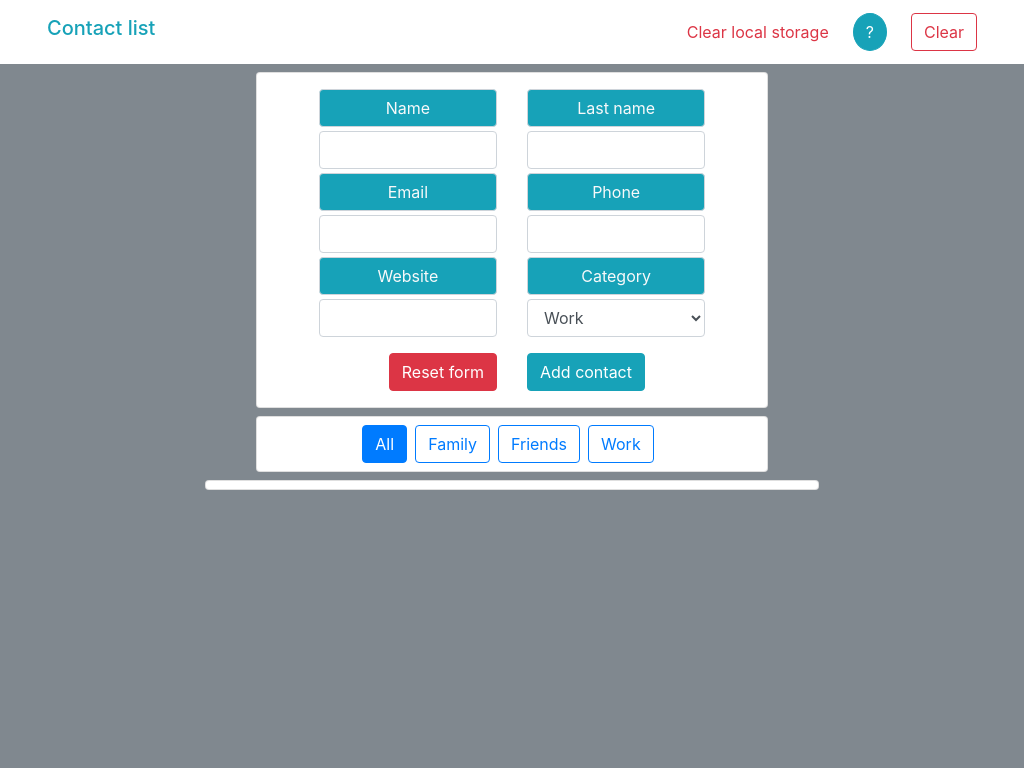
Testing that contacts is add/delete and contact card is rendered › Checking that contact card with website data is added to contacts grid container
Setting values and checking that it is assigned.
Type "Name" into the field with id "name" at (408, 150), box [319,131,497,169]
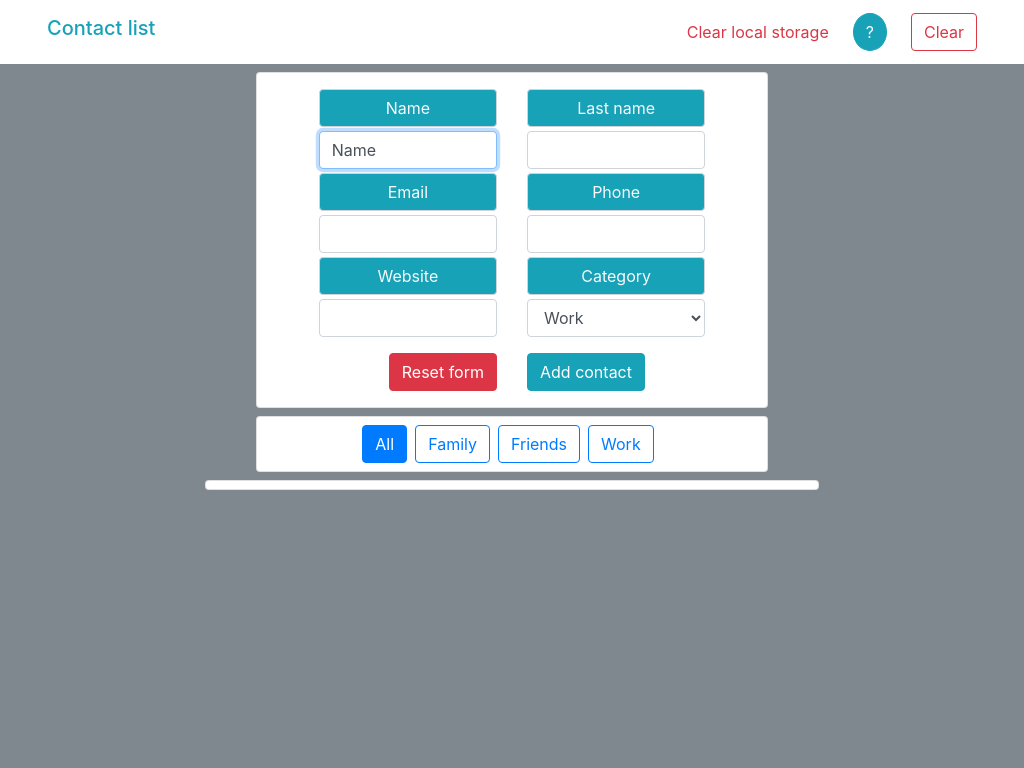
Type "lastName" into the field with id "lastName" at (616, 150), box [527,131,705,169]
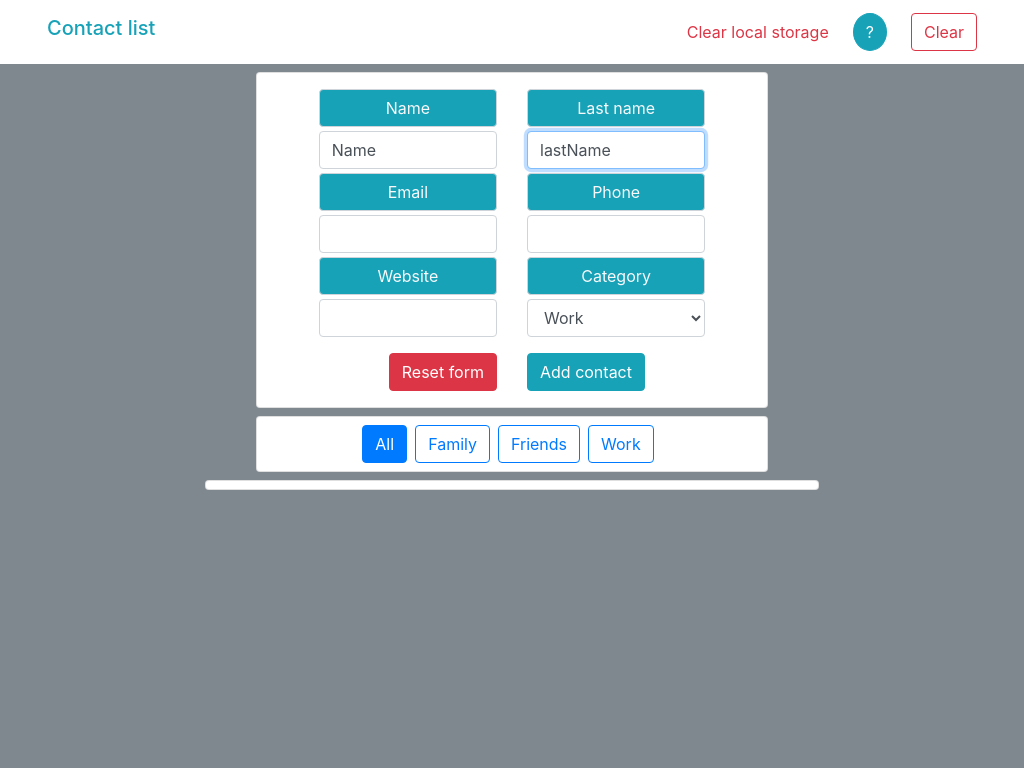
Type "27272727" into the field labelled "Phone" at (616, 234), box [527,215,705,253]
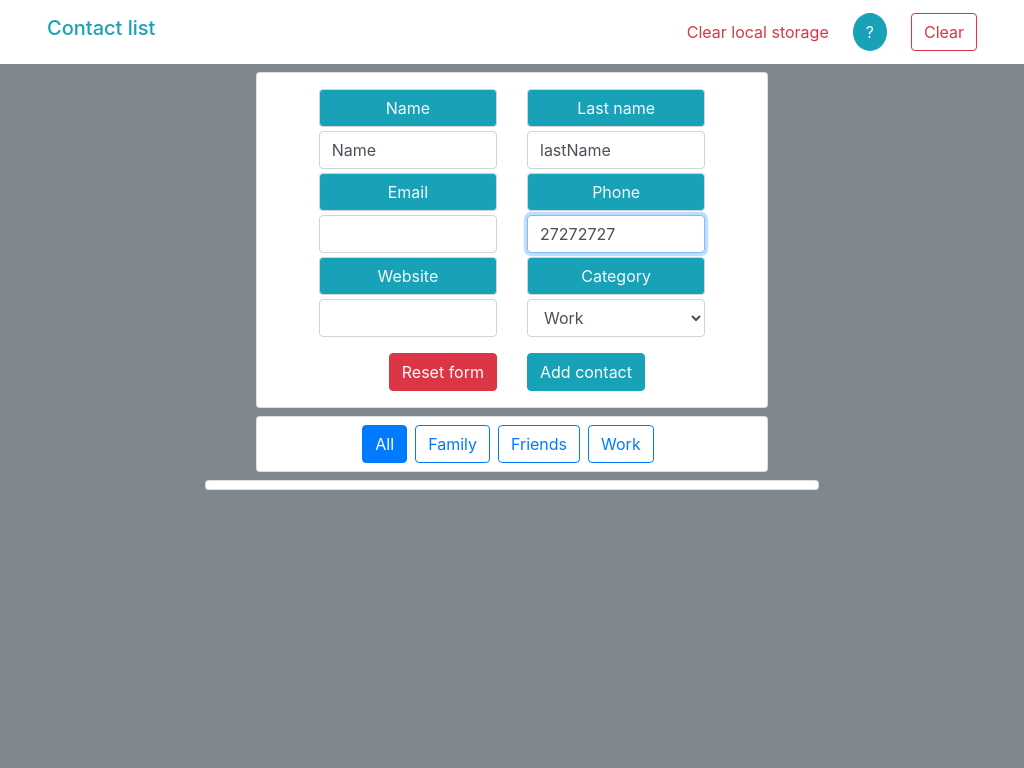
Type "test@email.com" into the field with id "email" at (408, 234), box [319,215,497,253]
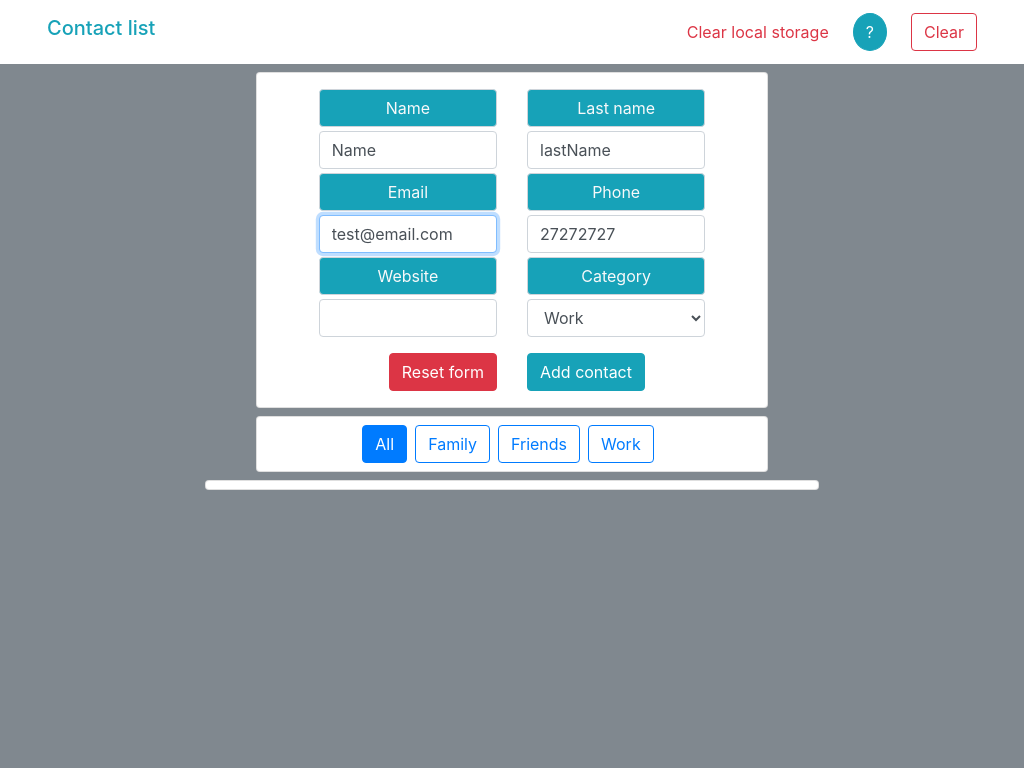
Type "www.test.com" into the field with id "website" at (408, 318), box [319,299,497,337]
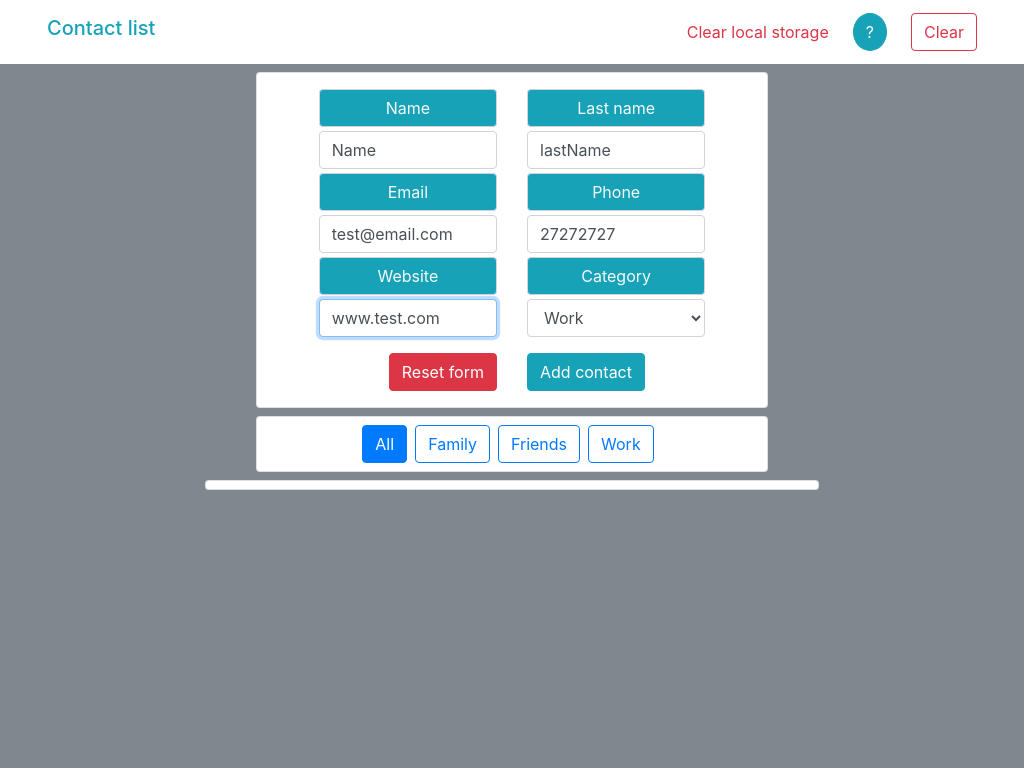
Submit form
Click the button with class "submit-btn" at (586, 372), box [527,353,645,391]
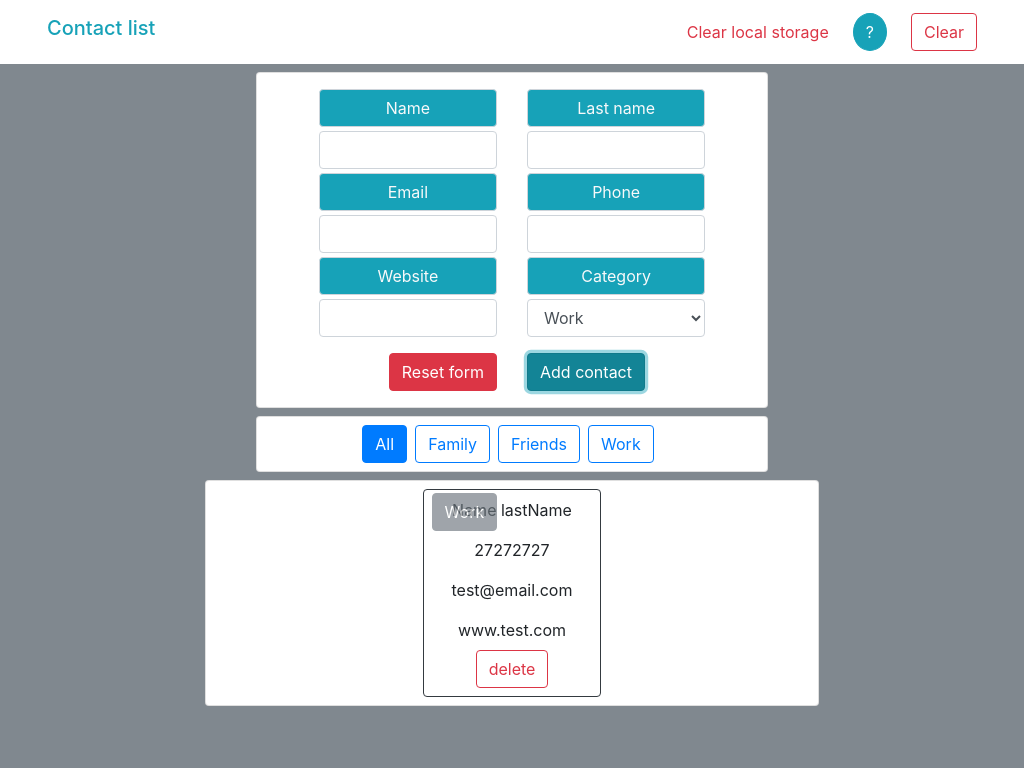
Check: the text "Name lastName" is shown, box [452,500,572,520]
Check: the text "27272727" is shown, box [474,540,550,560]
Check: the text "test@email.com" is shown, box [452,580,572,600]
